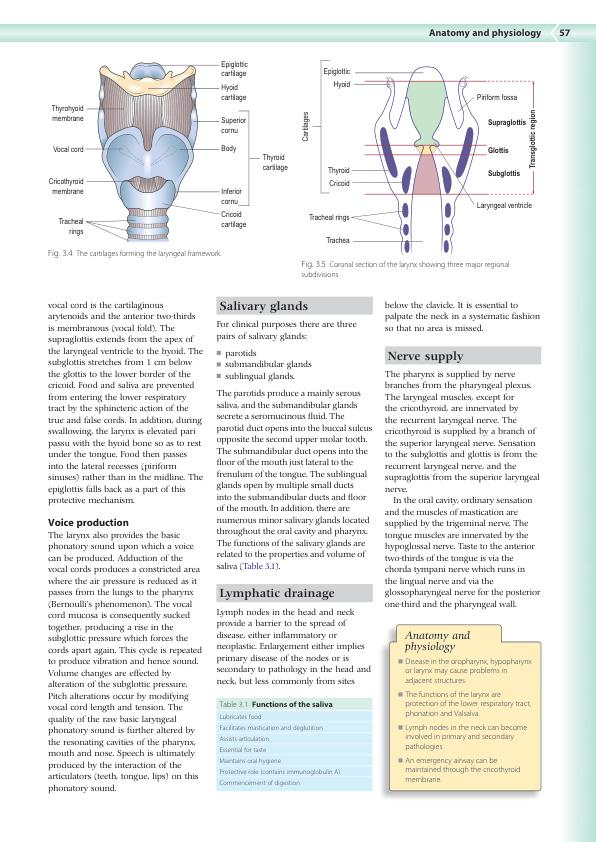caption: (300, 260, 510, 279), (47, 248, 223, 259), (403, 630, 471, 654), (218, 700, 333, 708)
header: (428, 28, 542, 40)
image: (296, 54, 545, 257), (44, 51, 292, 245)
list: (396, 656, 533, 784), (214, 347, 313, 383)
section-heading: (219, 587, 336, 602), (218, 299, 309, 314), (387, 350, 465, 364)
sub-section-heading: (47, 517, 129, 529)
table: (216, 710, 372, 792)
text: (46, 530, 202, 795), (383, 368, 542, 612), (46, 299, 204, 508), (214, 388, 374, 572), (215, 606, 373, 688), (383, 299, 542, 333), (215, 319, 358, 343)
